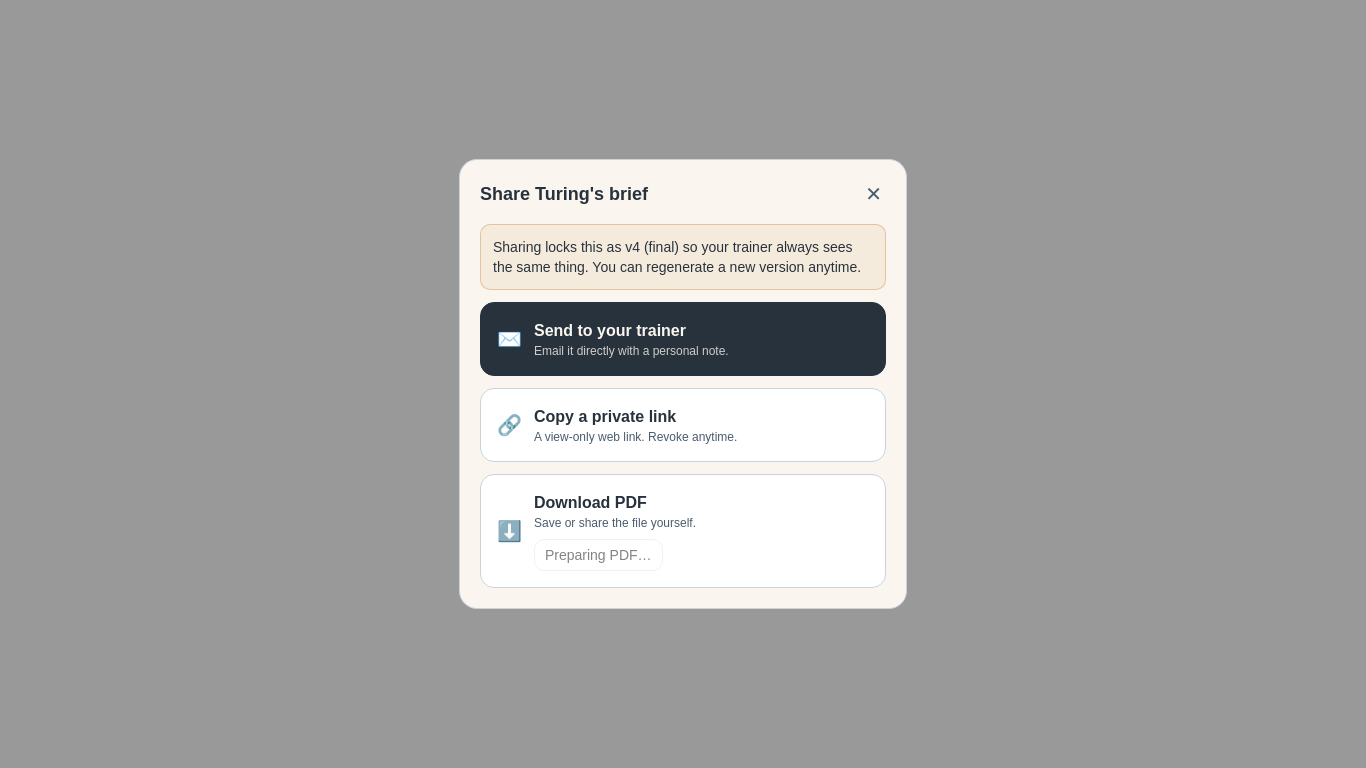
it: BriefShareSheet cache-to-prop flow › shows a newly shared URL from the Brief cache without a parent rerender
Click the button "🔗 Copy a private link A view-only web link. Revoke anytime.".
click(605, 416)  # box [480,388,886,462]
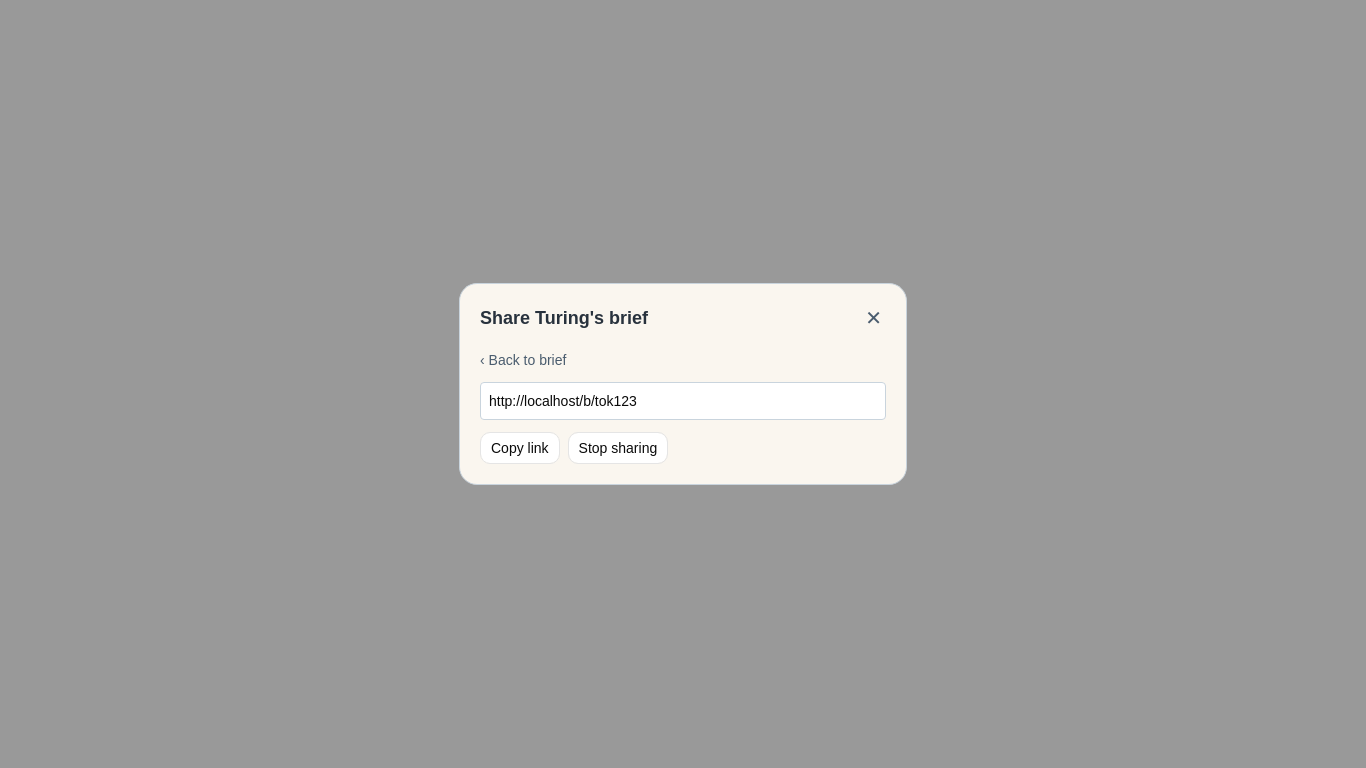
Expected: the field showing "/b/tok123" is shown, [480,382,886,420]
